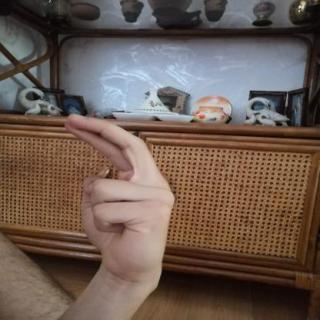ZAY: (52, 106, 185, 291)
